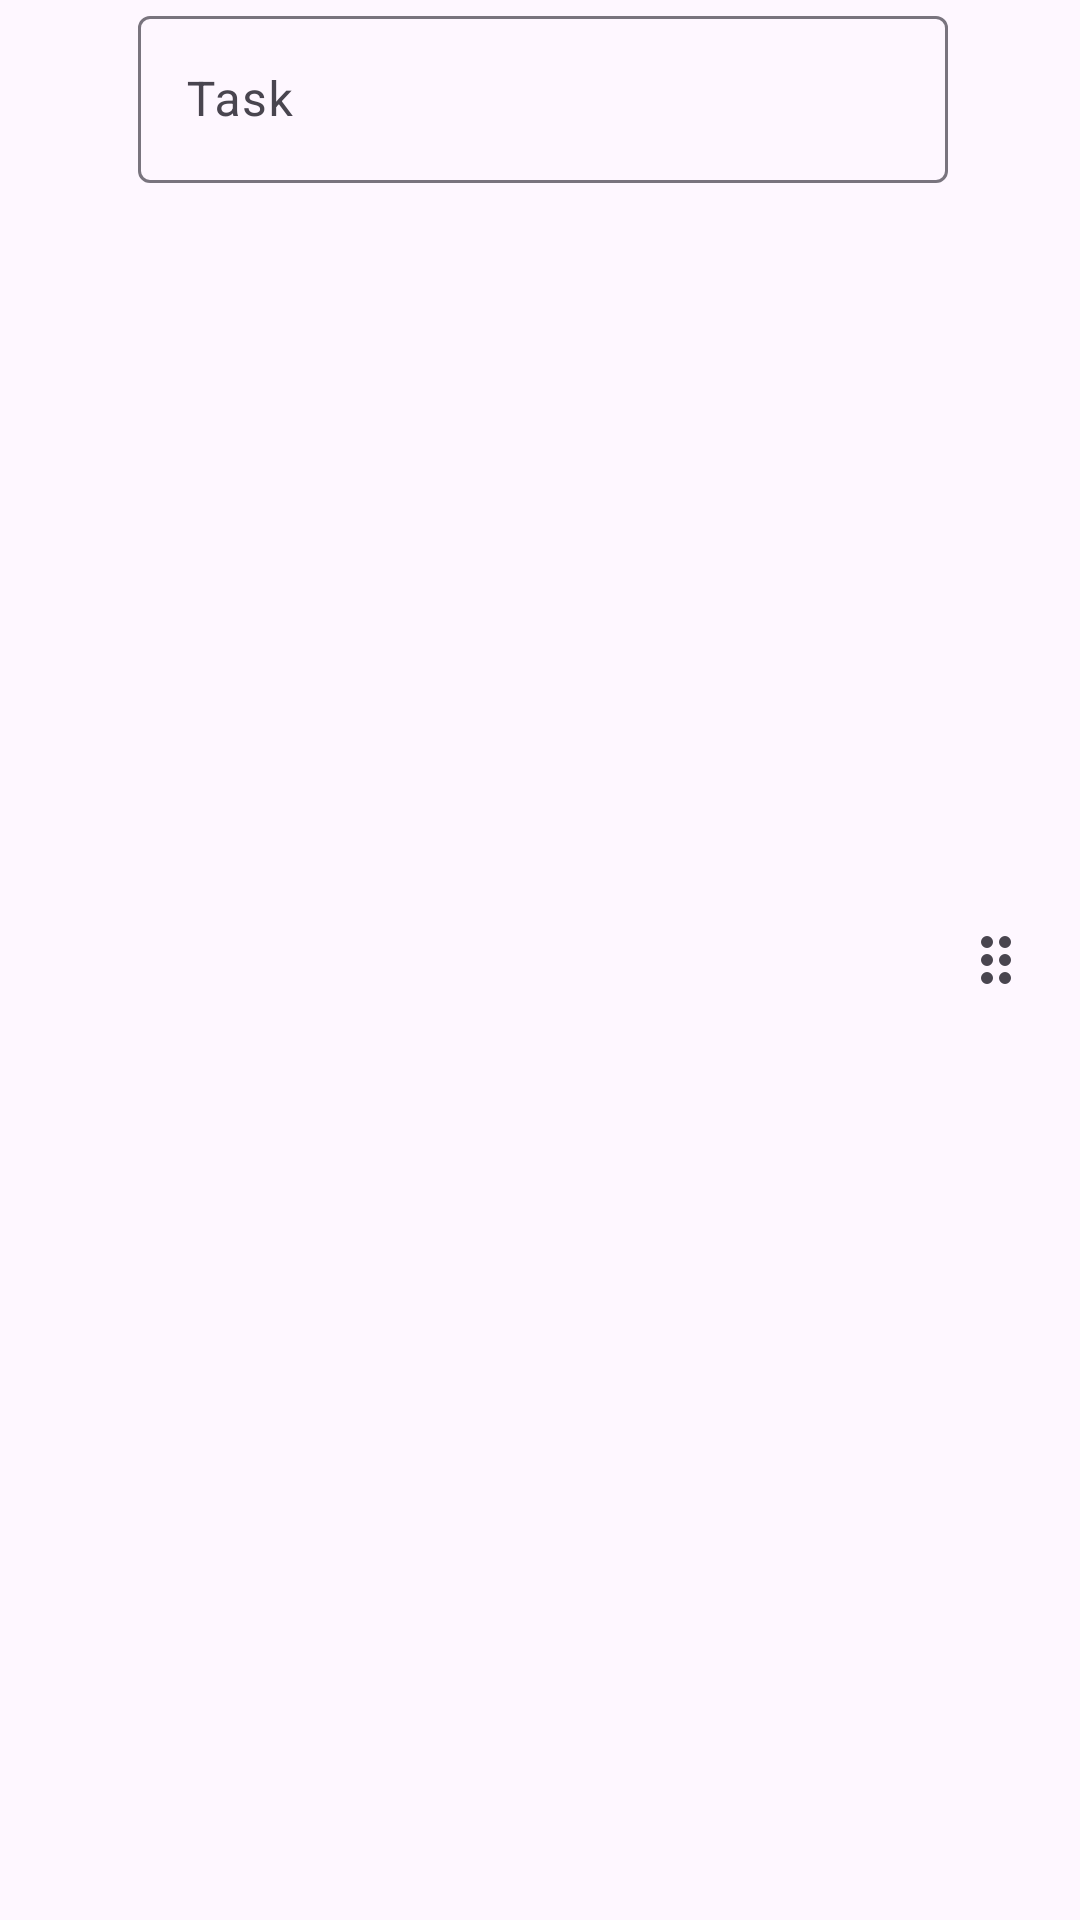

Where to tap for icons on this 1080px×1920px app screen, as (x,y):
drag indicator: (996,960)
